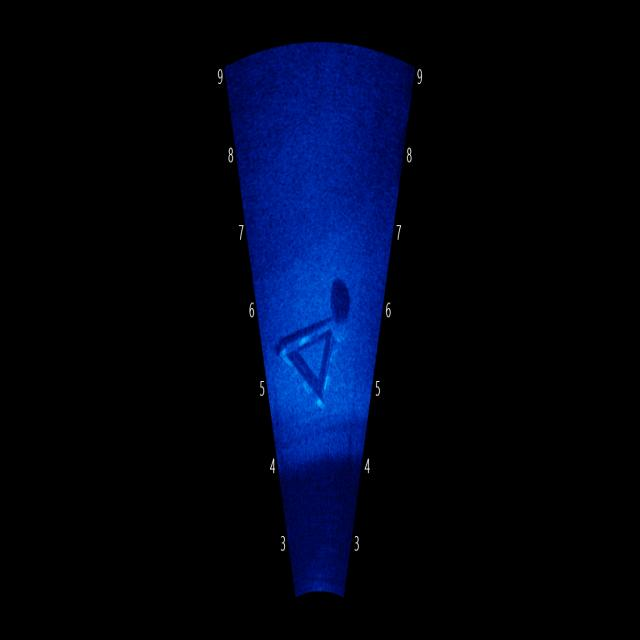triangle: (271, 257, 358, 424)
